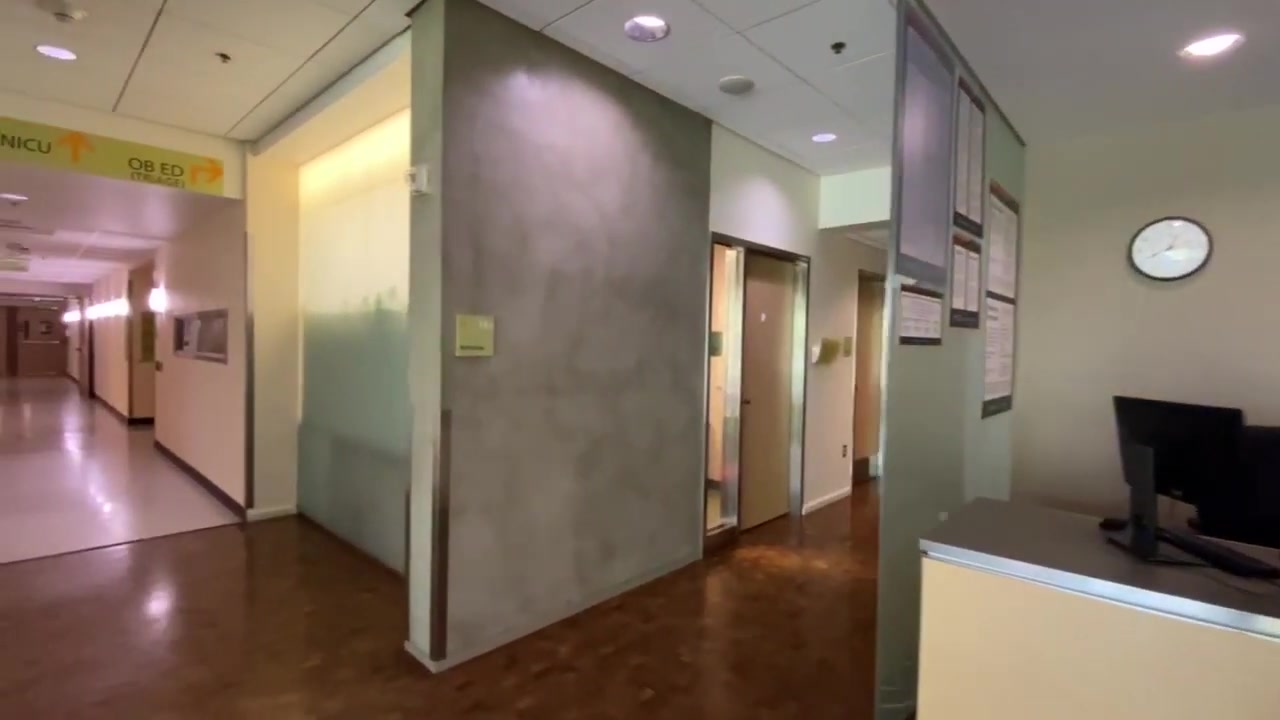computer: (1113, 390, 1244, 511)
counter: (918, 496, 1280, 719)
countertop: (916, 496, 1277, 642)
keyboard: (1155, 525, 1280, 581)
mouse: (1097, 508, 1129, 535)
